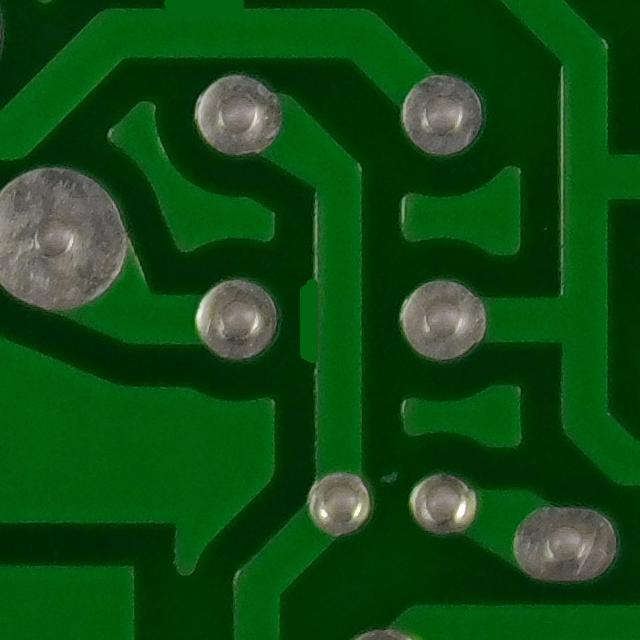spur: (280, 271, 360, 369)
